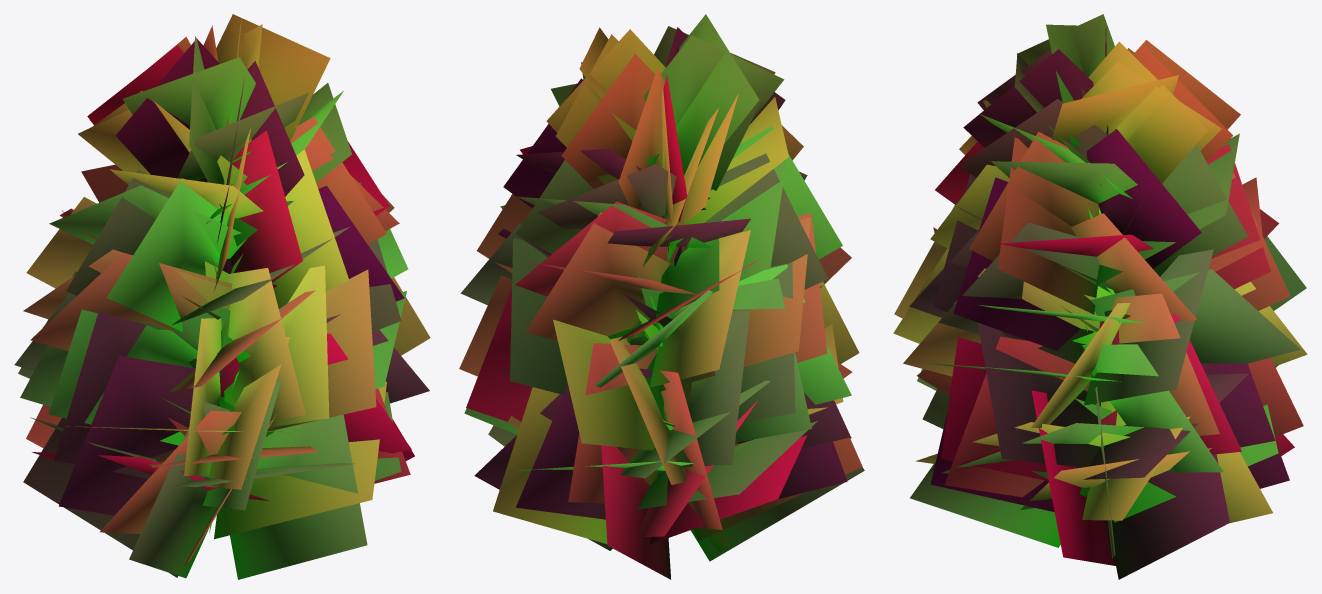
Rendered from TreeBush.fbx.
3 renders of one model, left to right at view 1: azimuth 30°, elevation 25°; view 2: azimuth 150°, elevation 25°; view 3: azimuth 270°, elevation 25°, orthographic.
Parts seen in each view (by area): view 1: Tree_0; view 2: Tree_0; view 3: Tree_0.
Boxes of the visible parts, box(x1,y1,x2,y2) form: Tree_0: box(14, 14, 430, 579); Tree_0: box(459, 14, 864, 579); Tree_0: box(893, 14, 1307, 579).
Bounding box in the file's own units: 82.36 × 118 × 83.45.
